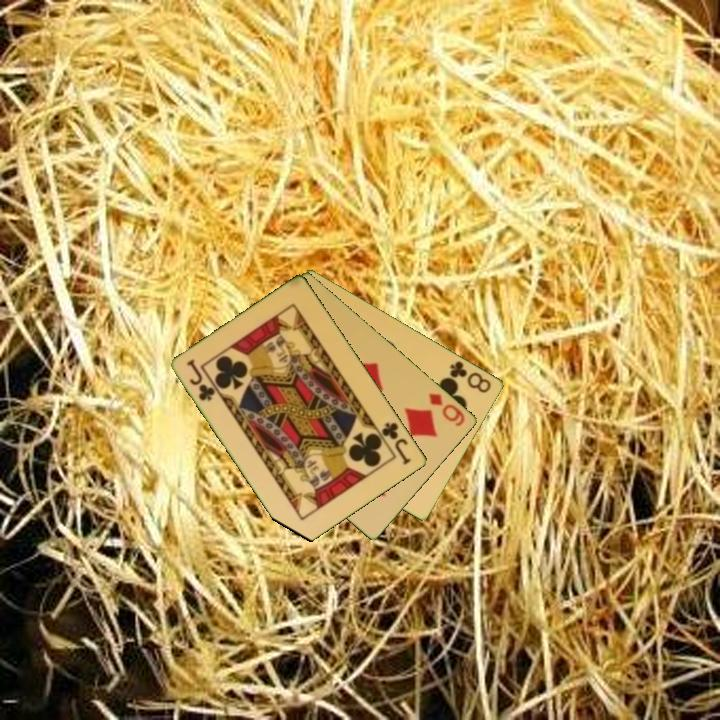6d: (425, 389, 468, 429)
8c: (447, 357, 495, 396)
Jc: (378, 418, 415, 468), (184, 356, 218, 404)
